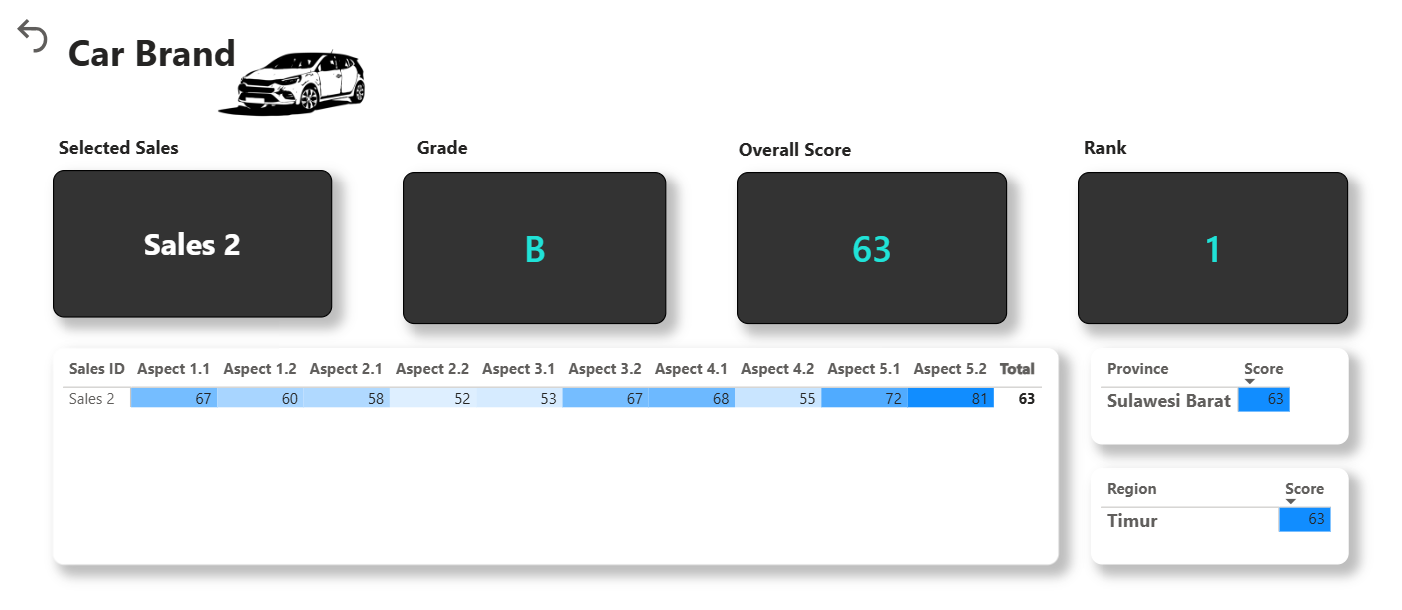

Layout of this report page (visuals, bound fields, positions):
{"tool":"powerbi","page":{"name":"Sales Details","canvas":[1280,550],"ordinal":1},"visuals":[{"type":"card","fields":{"Values":["Min(Dummy_2 (2).Sales ID)"]},"box":[51,151.2,245.7,130.4],"z":0},{"type":"card","fields":{"Values":["Dummy_2 (2).Grade 2"]},"box":[359.1,153.1,232.4,134.2],"z":2000},{"type":"card","fields":{"Values":["Avg(Dummy_2 (2).Score)"]},"box":[653.9,153.1,238.1,134.2],"z":3000},{"type":"textbox","box":[366.6,115.3,81.3,51],"z":4000},{"type":"textbox","box":[650.1,117.2,179.5,51],"z":5000},{"type":"textbox","box":[51,115.3,223,51],"z":6000},{"type":"pivotTable","fields":{"Rows":["Dummy_2 (2).Sales ID"],"Values":["Avg(Dummy_2 (2).Score)"],"Columns":["Dummy_2 (2).Aspect"]},"box":[51,308,886.3,190.9],"z":7000},{"type":"pivotTable","fields":{"Values":["Avg(Dummy_2 (2).Score)"],"Rows":["Dummy_2 (2).Region"]},"box":[965.7,413.9,226.8,85],"z":8000},{"type":"pivotTable","fields":{"Values":["Avg(Dummy_2 (2).Score)"],"Rows":["Dummy_2 (2).Province"]},"box":[965.7,308,226.8,85],"z":9000},{"type":"card","fields":{"Values":["Dummy_2 (2).Rank"]},"box":[954.3,153.1,238.1,134.2],"z":10000},{"type":"textbox","box":[954.3,115.3,179.5,51],"z":11000},{"type":"actionButton","box":[13.2,13.2,100.2,39.7],"z":12000},{"type":"group","id":"g1","title":"Brand Name","box":[59.3,0,353.1,149.5],"z":12001},{"type":"textbox","box":[59.3,20.6,203.6,74.7],"z":16000,"group":"g1"},{"type":"image","box":[110.8,0,301.5,149.5],"z":17000,"group":"g1"}]}

Visuals, with their boxes in screenshot pixels (x1, y1, x2, y2), scaled from the page's 1280x550 canvas onto the 1402x610 screenshot:
card - Min(Dummy_2 (2).Sales ID): 56/168/325/312
card - Dummy_2 (2).Grade 2: 393/170/648/319
card - Avg(Dummy_2 (2).Score): 716/170/977/319
textbox: 402/128/491/184
textbox: 712/130/909/187
textbox: 56/128/300/184
pivotTable - Dummy_2 (2).Sales ID x Avg(Dummy_2 (2).Score): 56/342/1027/553
pivotTable - Avg(Dummy_2 (2).Score) x Dummy_2 (2).Region: 1058/459/1306/553
pivotTable - Avg(Dummy_2 (2).Score) x Dummy_2 (2).Province: 1058/342/1306/436
card - Dummy_2 (2).Rank: 1045/170/1306/319
textbox: 1045/128/1242/184
actionButton: 14/15/124/59
"Brand Name" group: 65/0/452/166
textbox: 65/23/288/106
image: 121/0/452/166
